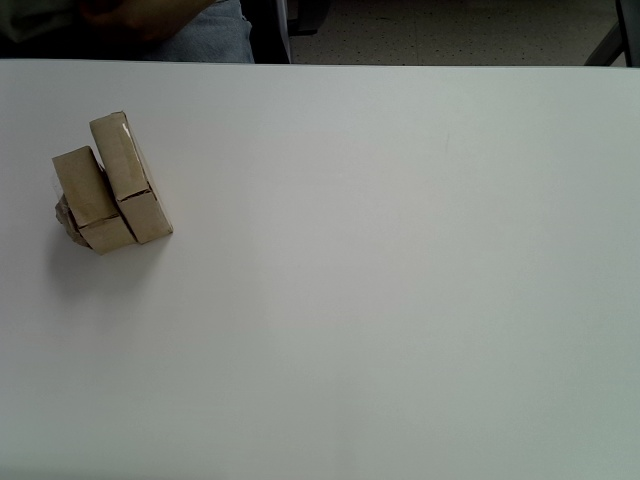defect: (52, 145, 139, 256)
normal: (89, 111, 173, 255)
